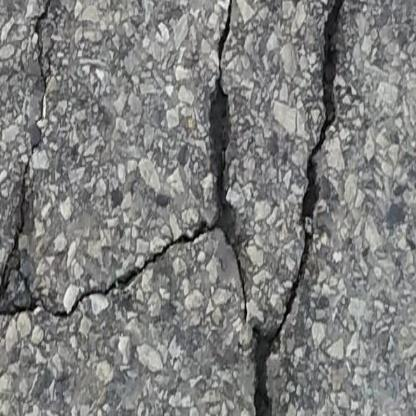Cracks: (0, 0, 250, 344), (244, 0, 351, 416), (241, 299, 253, 328)
